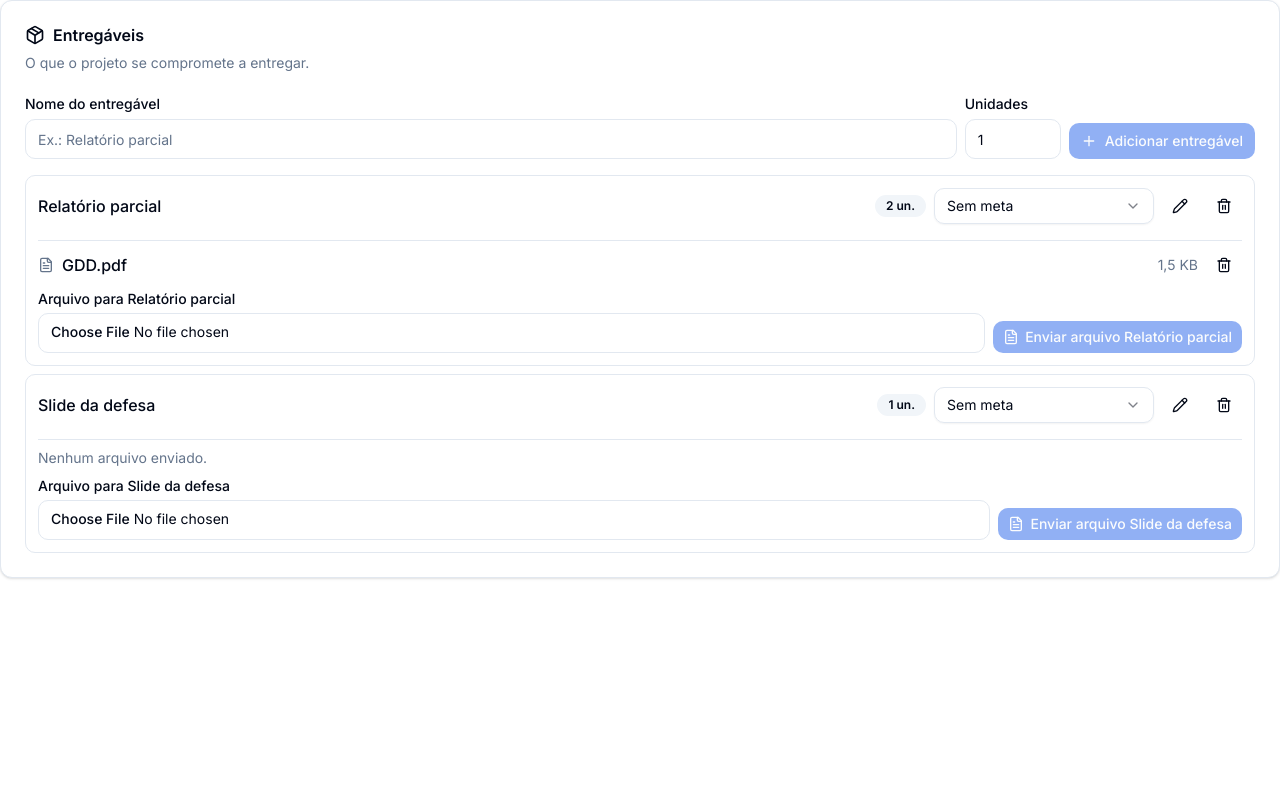
it: arquivos do entregável › a gestão remove o arquivo da linha com confirmação, e a linha do entregável fica
This screenshot has width=1280, height=800.
Expected: the link "GDD.pdf" is shown, x1=38 y1=255 x2=127 y2=275
Click the button named "Remover arquivo GDD.pdf" at x=1224, y=265, box x1=1206 y1=249 x2=1242 y2=281
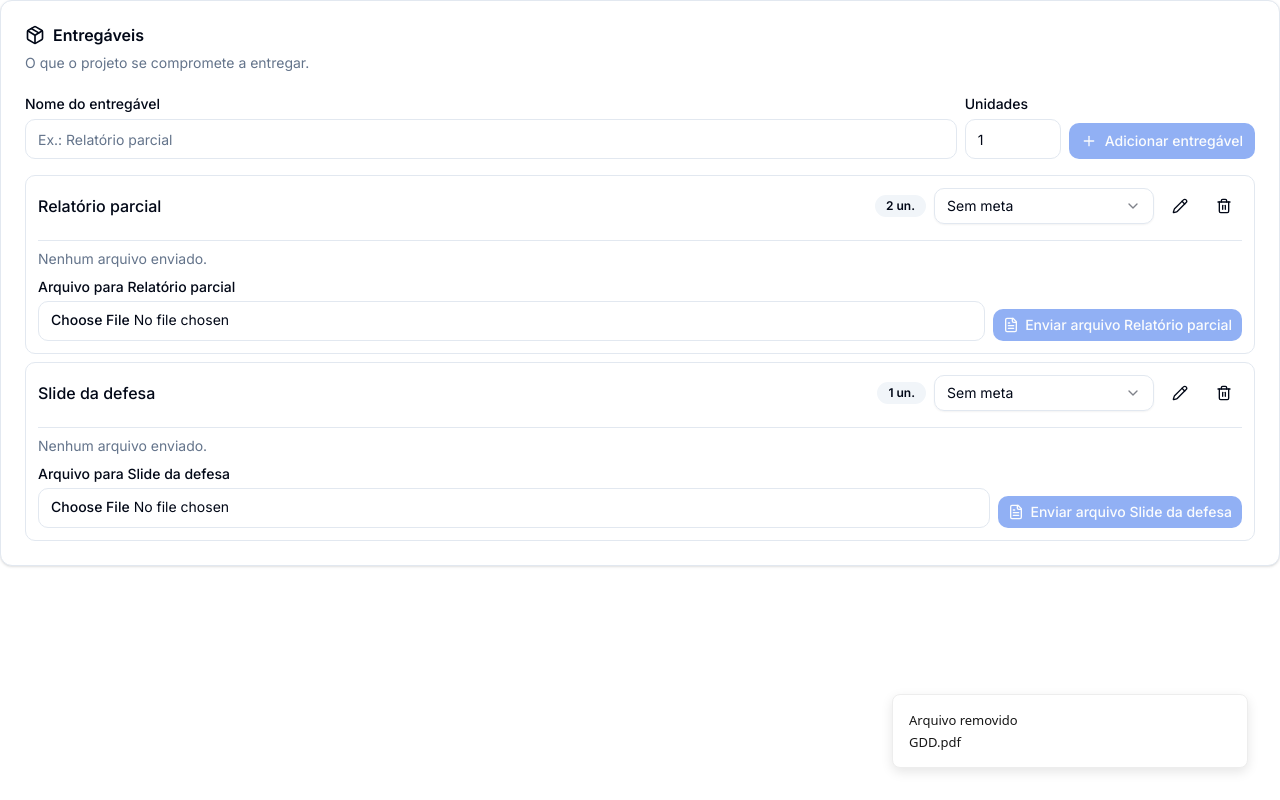
Expected: the text "Relatório parcial" is shown, x1=38 y1=196 x2=161 y2=216
Result: the 1st text "Nenhum arquivo enviado." is shown at x1=38 y1=250 x2=207 y2=267
